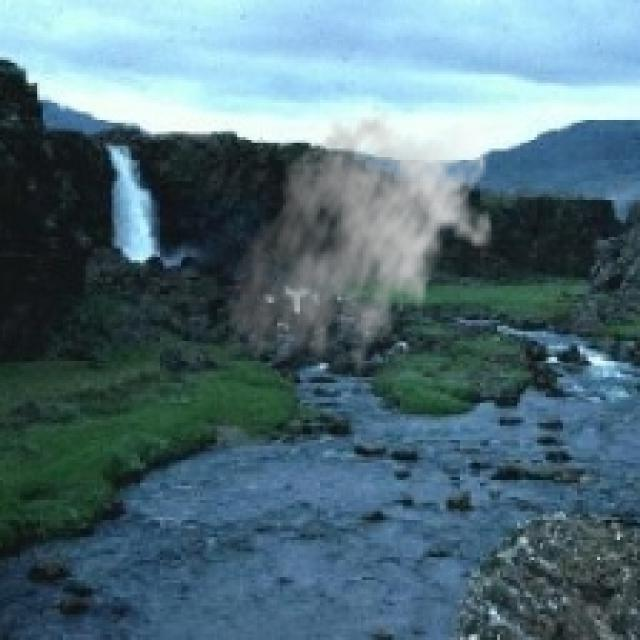smoke: (226, 106, 494, 386)
